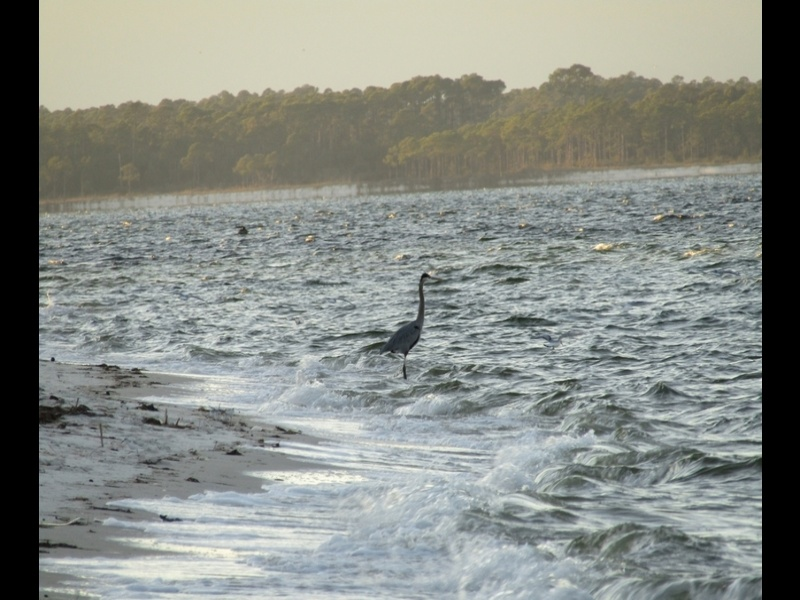heron: (364, 269, 438, 380)
